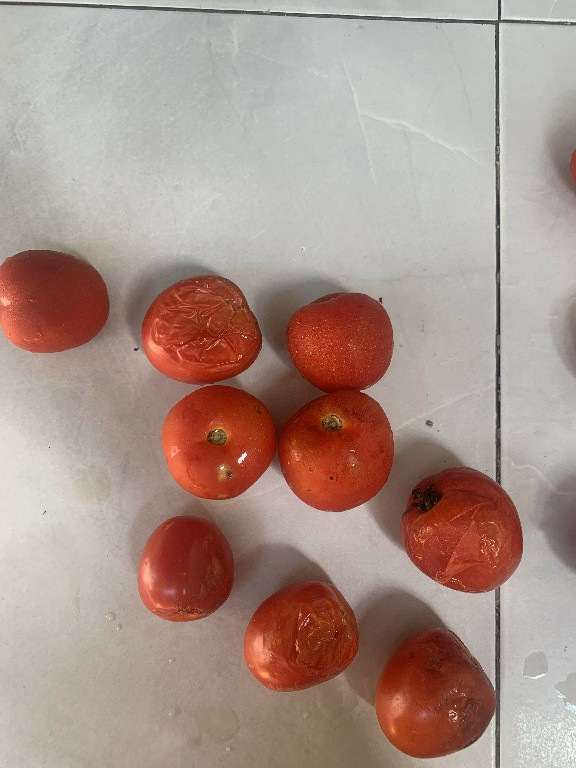NG: (397, 457, 528, 606), (244, 558, 364, 702), (374, 627, 499, 763), (282, 389, 404, 519), (135, 266, 262, 390), (170, 386, 283, 517), (135, 505, 248, 629)
OK: (0, 225, 118, 366), (276, 275, 410, 390)
